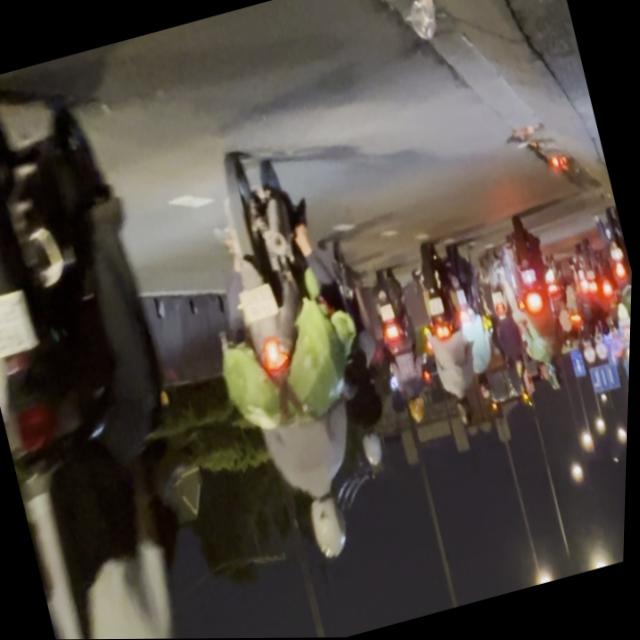helmet: (302, 487, 357, 564)
licenseplate: (0, 57, 262, 640), (162, 134, 411, 580)
nohelmet: (0, 291, 40, 362), (238, 284, 282, 327)
